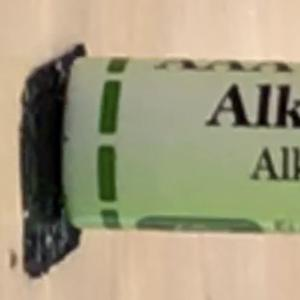ALK: (196, 74, 282, 138)
